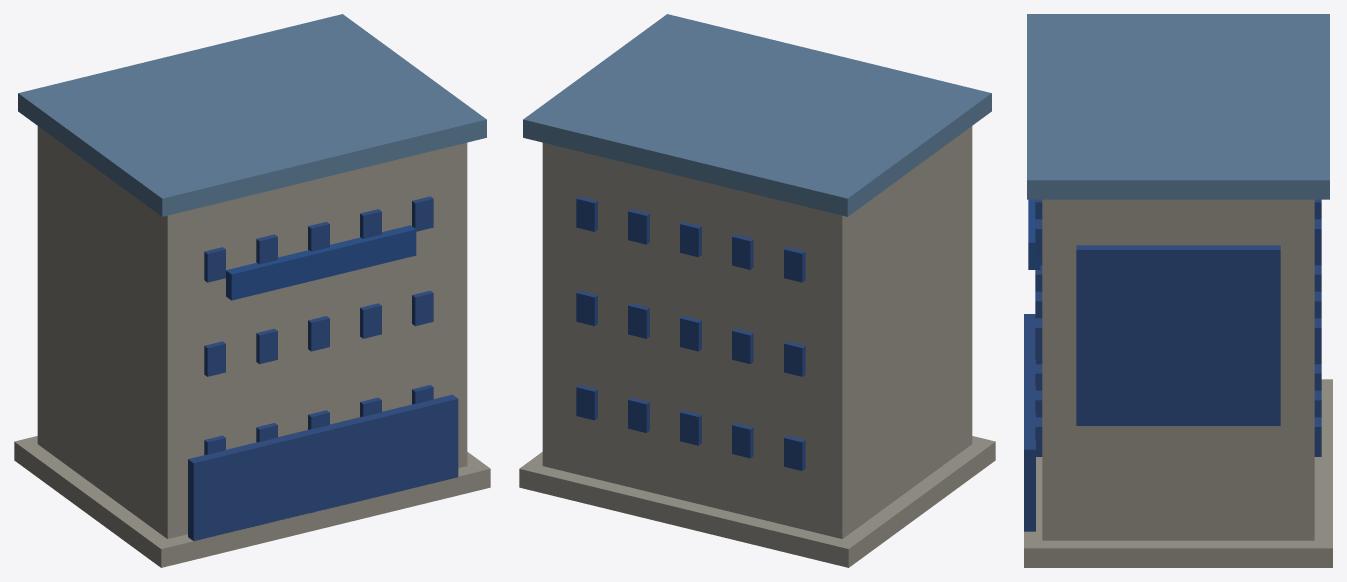
Rendered from bld_commercial_a07.glb.
3 views of the same model, side by side, from view 1: azimuth 30°, elevation 25°; view 2: azimuth 150°, elevation 25°; view 3: azimuth 270°, elevation 25° (orthographic). The views are drawn at different scales.
Parts seen in each view (by area): view 1: body; view 2: body; view 3: body.
Part boxes in pixels (x1,y1,x2,y2): body: [14, 14, 490, 567]; body: [519, 14, 995, 567]; body: [1024, 14, 1332, 567].
Size of what is drawn, in the model's own units: 6.6 by 7.03 by 5.1.
